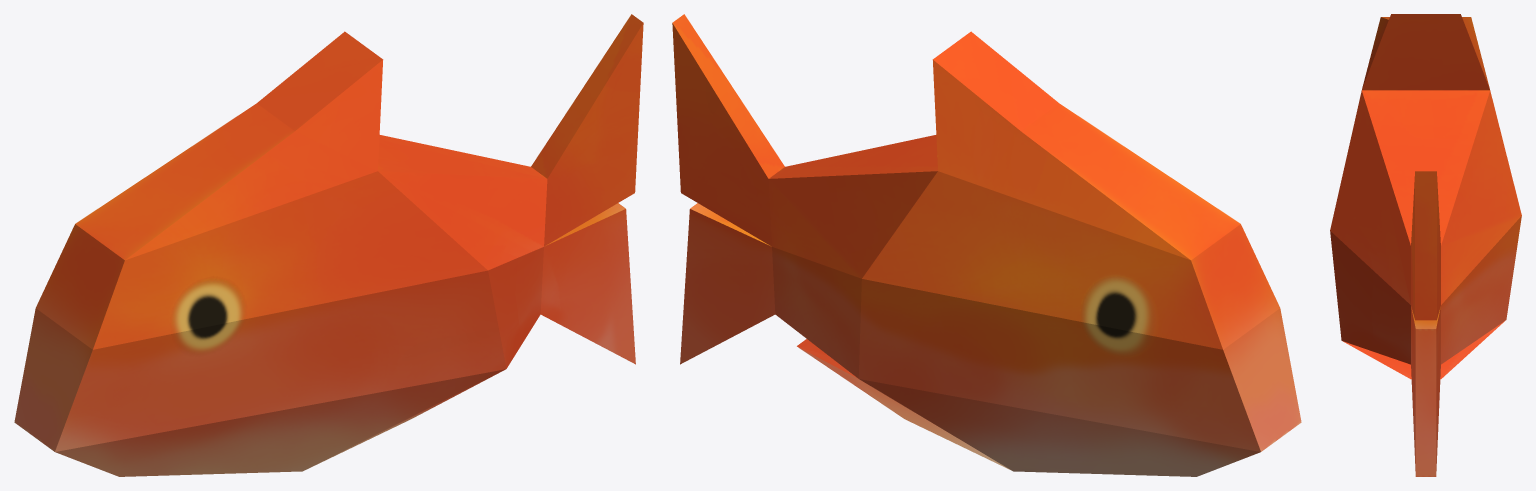
File: goldFish.fbx
3 views of the same model, side by side, from view 1: azimuth 30°, elevation 25°; view 2: azimuth 150°, elevation 25°; view 3: azimuth 270°, elevation 25° (orthographic). The views are drawn at different scales.
Parts seen in each view (by area): view 1: Cube; view 2: Cube; view 3: Cube.
Part boxes in pixels (box(x1,y1,x2,y2)): Cube: box(14, 14, 643, 476); Cube: box(672, 14, 1301, 476); Cube: box(1330, 14, 1521, 476).
Bounding box in the file's own units: 512 × 319 × 155.
